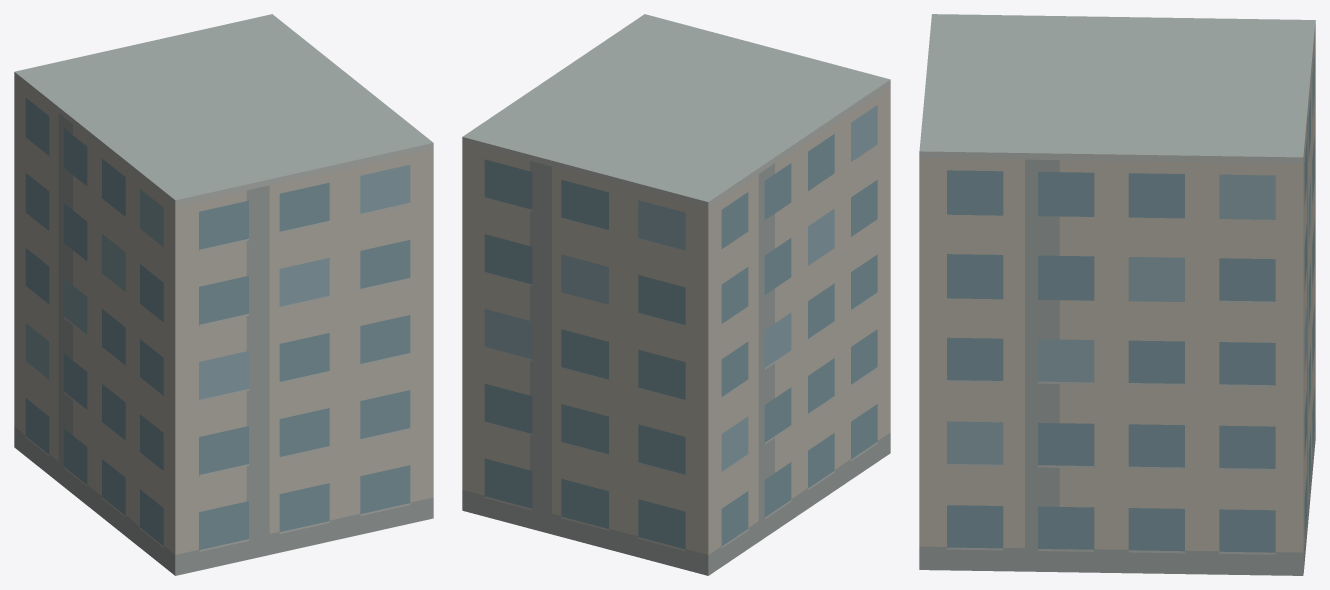
The model's file is survey-upis-33043856.glb.
3 renders of one model, left to right at view 1: azimuth 30°, elevation 25°; view 2: azimuth 150°, elevation 25°; view 3: azimuth 270°, elevation 25°, orthographic. The views are drawn at different scales.
Visible parts, largest first — view 1: survey-upis-33043856.tmp; view 2: survey-upis-33043856.tmp; view 3: survey-upis-33043856.tmp.
Part boxes in pixels (<box>): survey-upis-33043856.tmp: <box>14,14,433,575</box>; survey-upis-33043856.tmp: <box>462,14,890,575</box>; survey-upis-33043856.tmp: <box>919,14,1315,575</box>.
Bounding box in the file's own units: 11.44 × 15.55 × 13.35.
